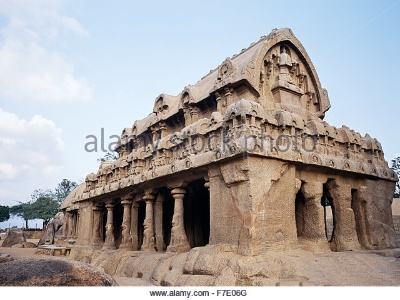mandapa: (56, 81, 394, 258)
